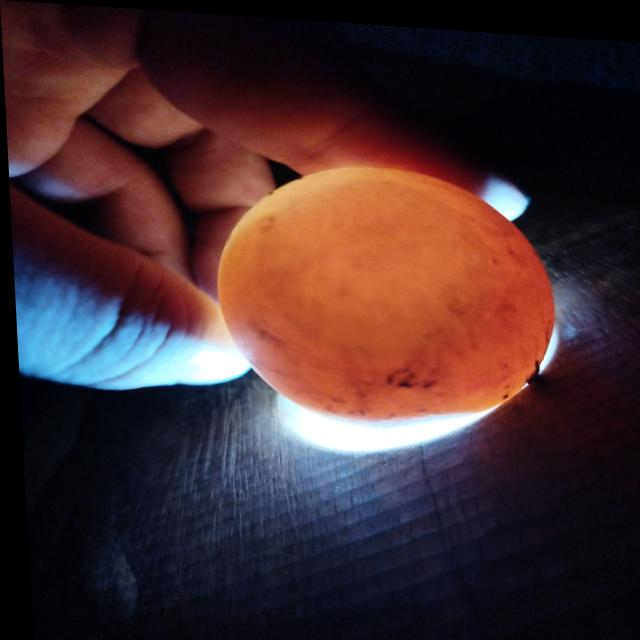Camara de Ar: (256, 171, 492, 348)
